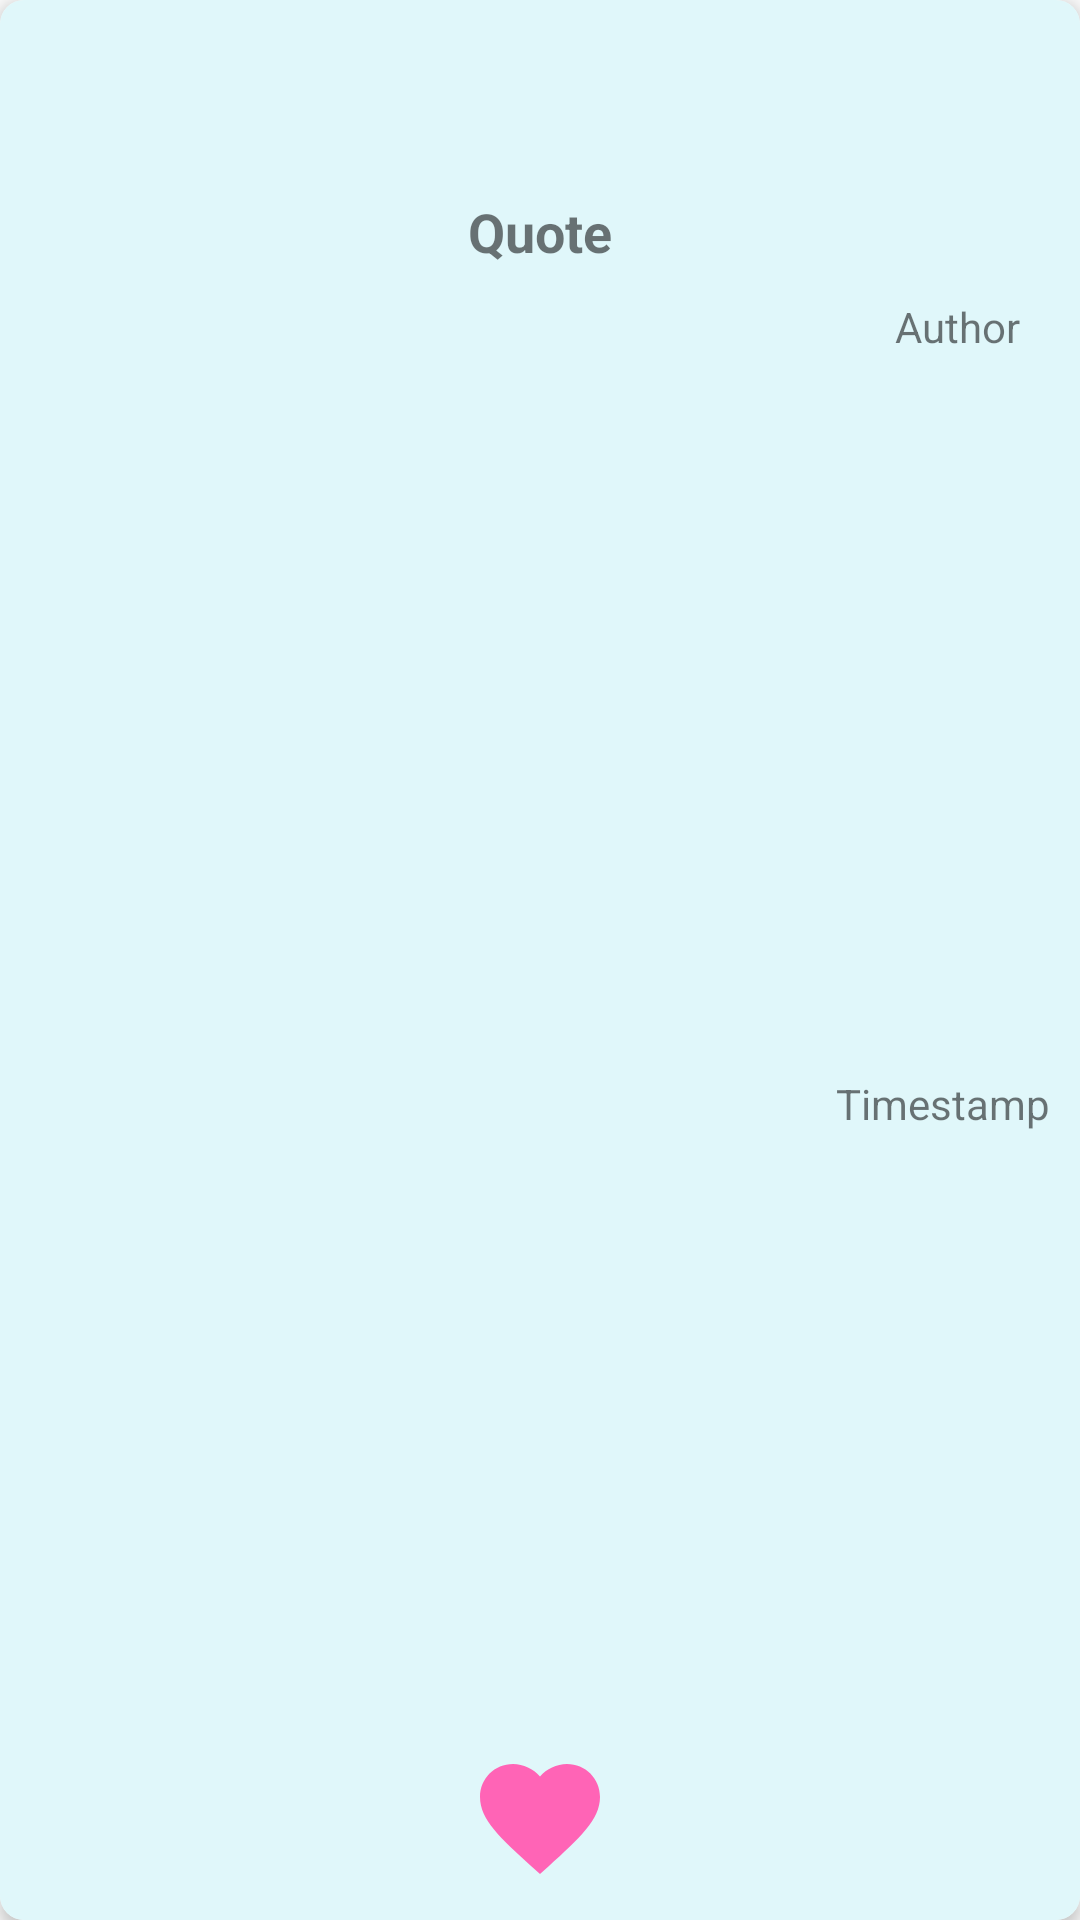

Screen size 1080×1920. Icon name, then its box in pixels as (x1, y1, x2, y2):
favorite: (480, 1764, 600, 1874)
